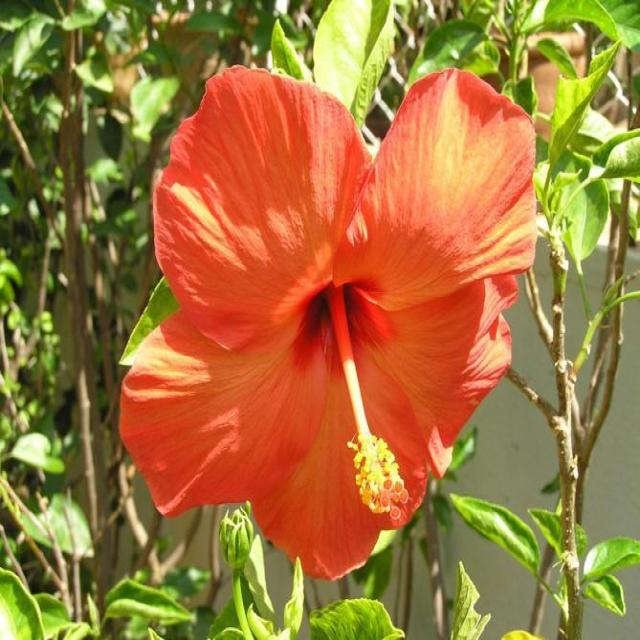hibiscus: (140, 46, 554, 574)
